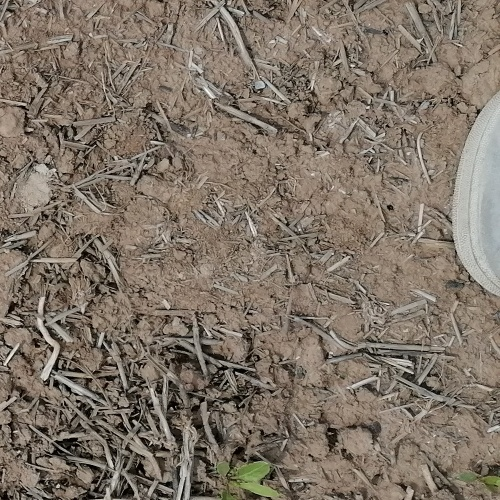beet: (214, 459, 278, 500), (461, 465, 500, 494)
